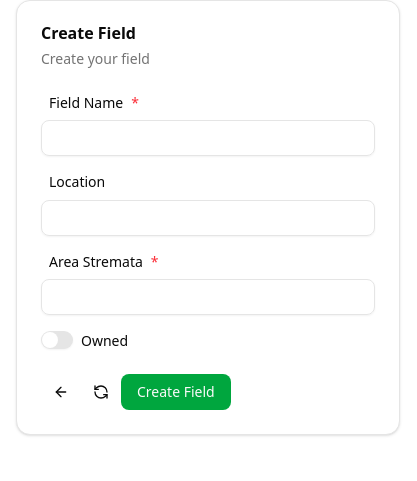
Test: CreateFieldForm Tests › Area invalid number error
The width and height of the screenshot is (417, 481).
Type "My Field" into the field labelled "Field Name *" at (208, 138), box left=41, top=120, right=375, bottom=156
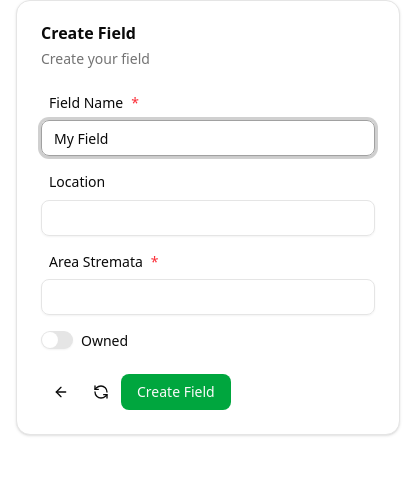
Type "abc" into the field labelled "Area Stremata *" at (208, 297), box left=41, top=279, right=375, bottom=315
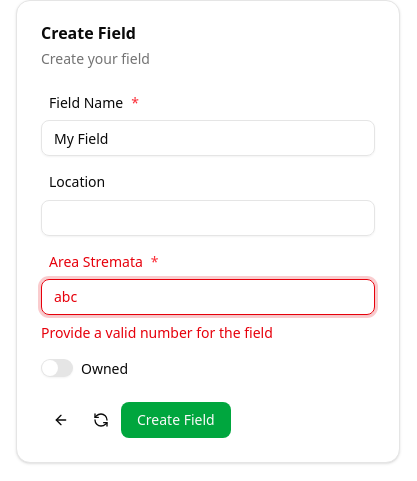
Expected: the text "Provide a valid number for the field" is shown, left=41, top=323, right=273, bottom=342
